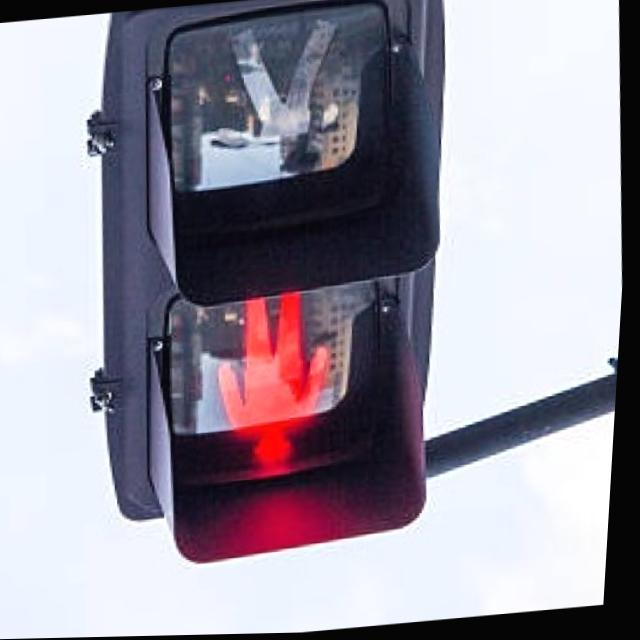red_light: (203, 281, 349, 493)
